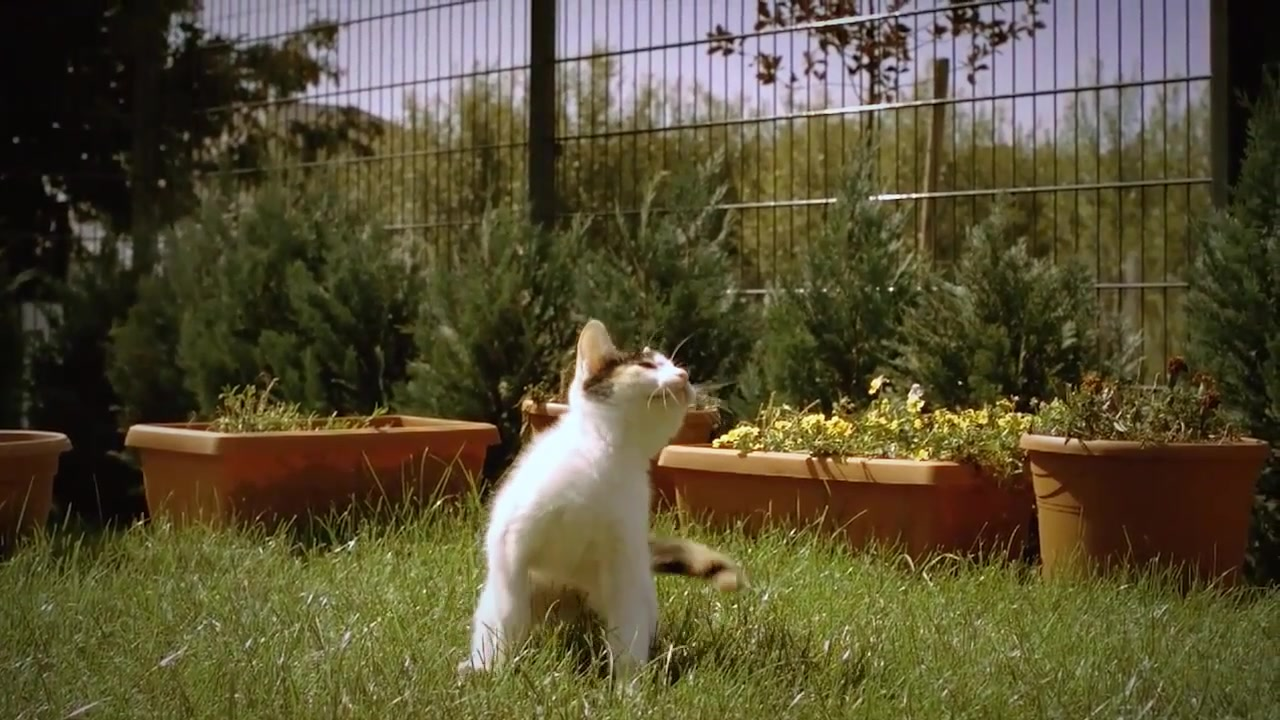cat: (464, 312, 746, 692)
